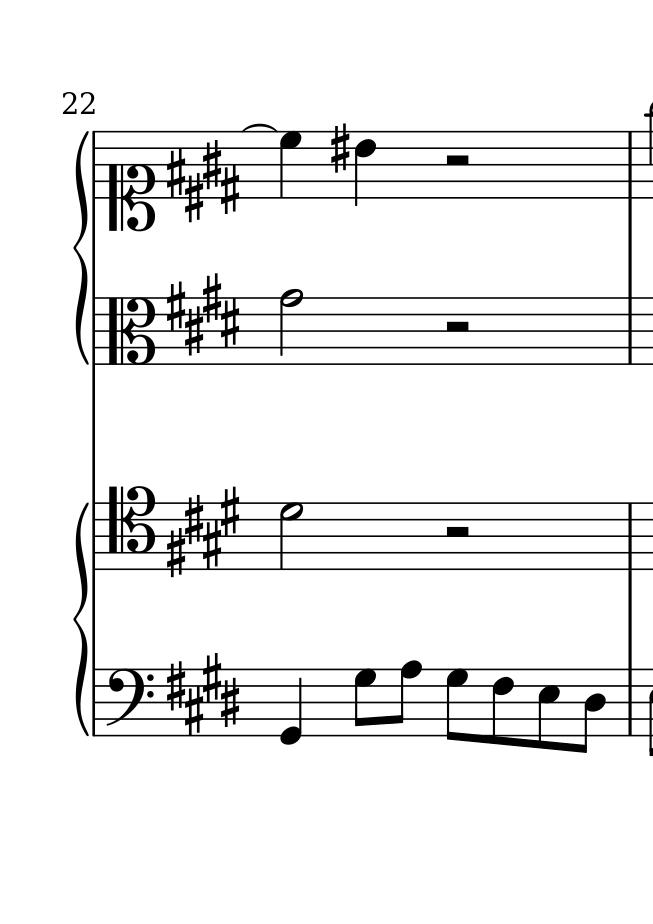2: (78, 88, 97, 116), (61, 90, 78, 116)
2_7: (279, 496, 306, 571)
2_8: (277, 287, 303, 368)
4_0: (279, 667, 306, 746)
4_6: (354, 130, 377, 207)
4_7: (276, 131, 303, 201)
8_4: (578, 667, 607, 754)
8_5: (535, 667, 561, 752)
8_6: (489, 668, 514, 746)
8_7: (353, 667, 380, 738), (445, 667, 468, 744)
8_8: (389, 660, 421, 739)
Brace: (69, 503, 91, 732), (71, 128, 89, 365)
Cclef: (106, 482, 157, 571), (105, 296, 157, 369)
E_S: (166, 487, 242, 579), (164, 138, 239, 221), (165, 274, 240, 357), (165, 653, 240, 735)
Fclef: (106, 666, 155, 743)
Rests2: (442, 151, 473, 171), (441, 523, 473, 541), (443, 319, 473, 338)
Single_barline: (622, 668, 640, 736), (86, 297, 104, 365), (622, 296, 639, 365), (625, 503, 642, 571), (89, 668, 105, 736), (88, 501, 103, 570), (622, 134, 637, 198), (89, 131, 103, 198)
Slur: (241, 122, 275, 134)
Soprano_Cclef: (105, 128, 156, 233)
